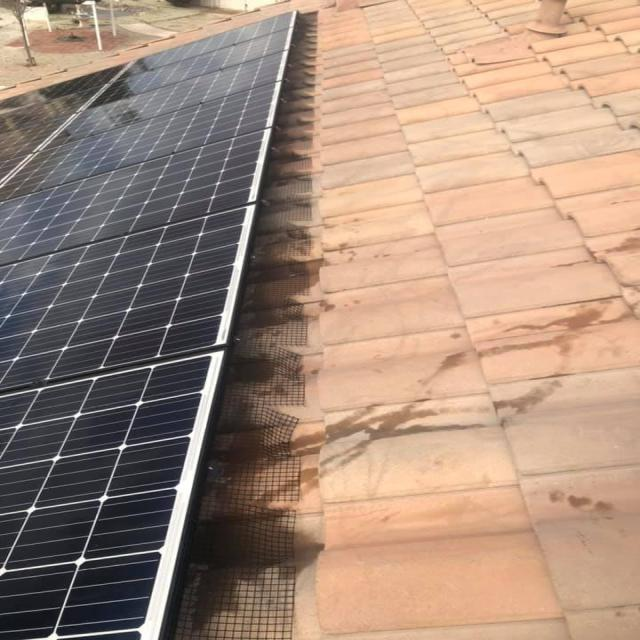clean-solar-panel: (2, 208, 245, 389)
